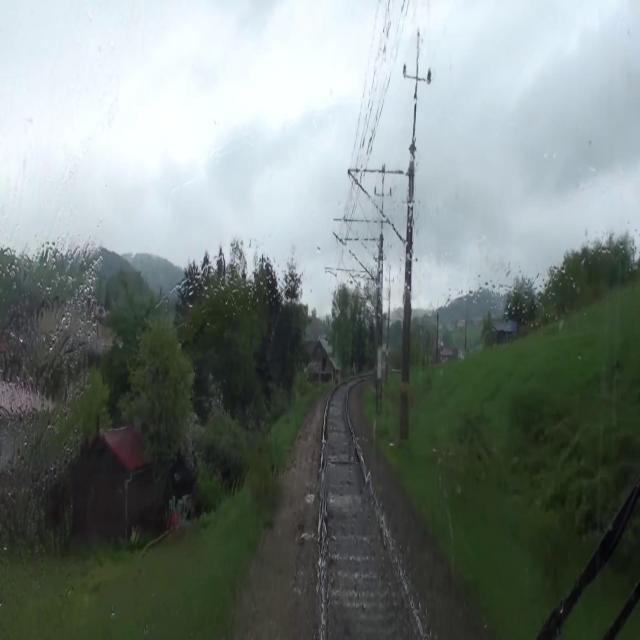rail-track: (326, 383, 422, 639)
